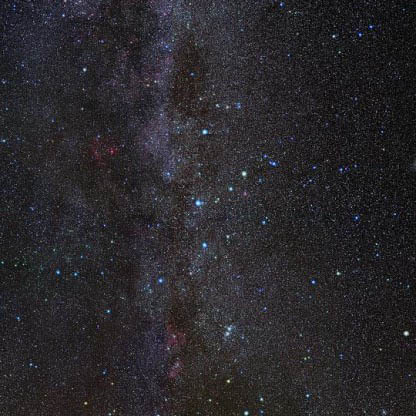Cassiopeia: (225, 161, 250, 192), (186, 190, 209, 217), (149, 267, 169, 294), (196, 235, 212, 255), (194, 122, 211, 140)
